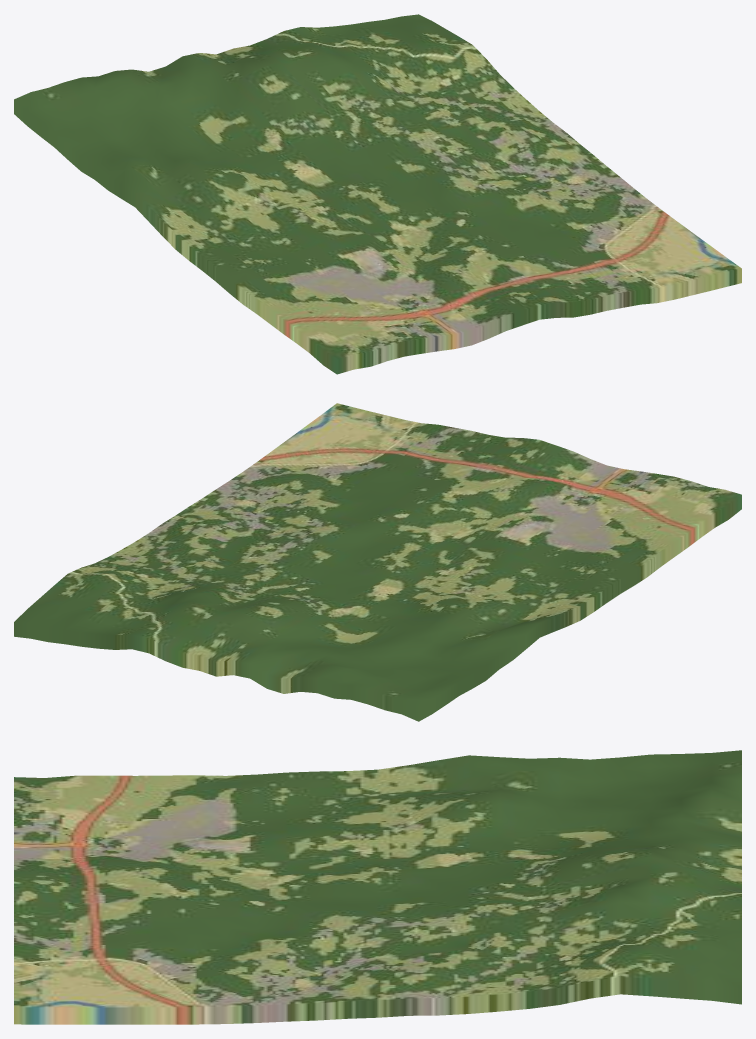
3 views of the same model, one above another, from view 1: azimuth 30°, elevation 25°; view 2: azimuth 150°, elevation 25°; view 3: azimuth 270°, elevation 25° (orthographic). The views are drawn at different scales.
Bounding box in the file's own units: 3533 × 483 × 4884.
1 material, 1 textured.
